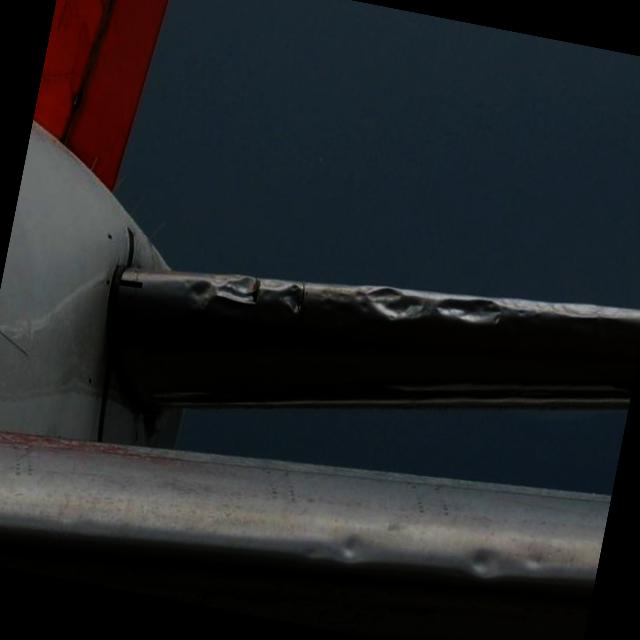dent: (182, 262, 268, 324), (429, 282, 509, 334), (356, 278, 434, 330), (458, 544, 514, 588), (328, 522, 372, 566), (518, 540, 555, 578), (276, 281, 312, 318)
